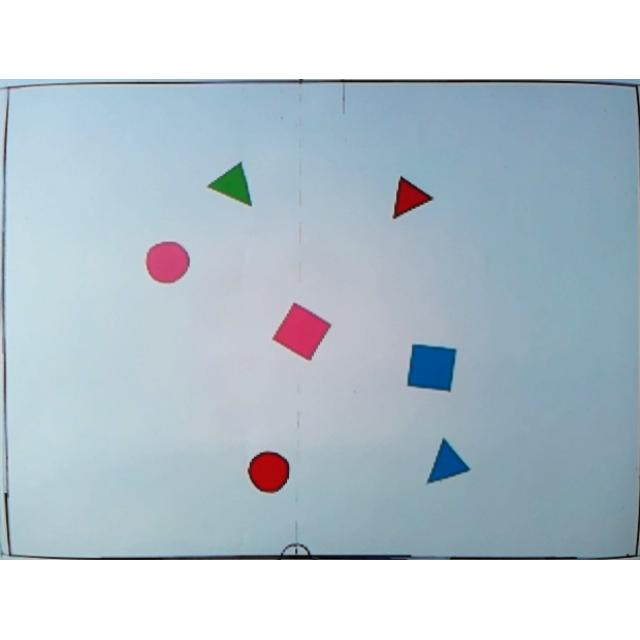blueSquare: (407, 346, 458, 392)
blueTriangle: (428, 438, 468, 486)
greenTriangle: (208, 162, 252, 208)
pinkCircle: (144, 242, 190, 286)
pinkSquare: (272, 304, 330, 362)
redCircle: (248, 451, 290, 495)
redTriangle: (385, 176, 433, 220)
